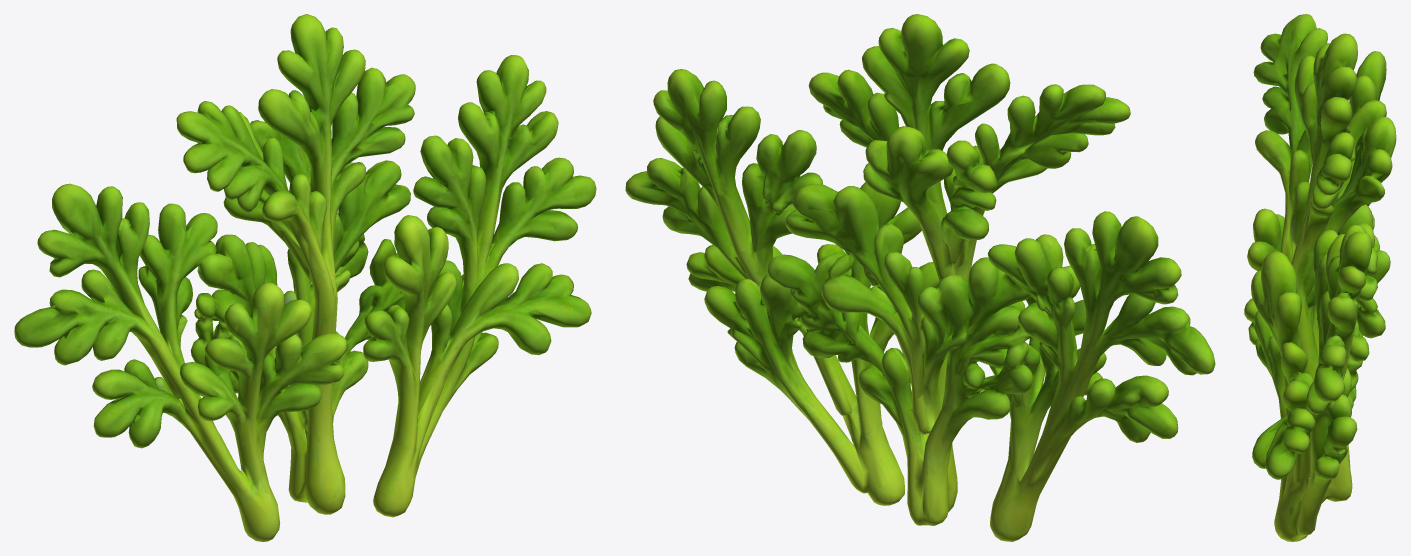
The model's file is carrot-sprout.glb.
3 renders of one model, left to right at view 1: azimuth 30°, elevation 25°; view 2: azimuth 150°, elevation 25°; view 3: azimuth 270°, elevation 25°, orthographic. The views are drawn at different scales.
Bounding box in the file's own units: 1.9 × 1.58 × 0.4578.
Materials: 1 (1 with a texture image).
